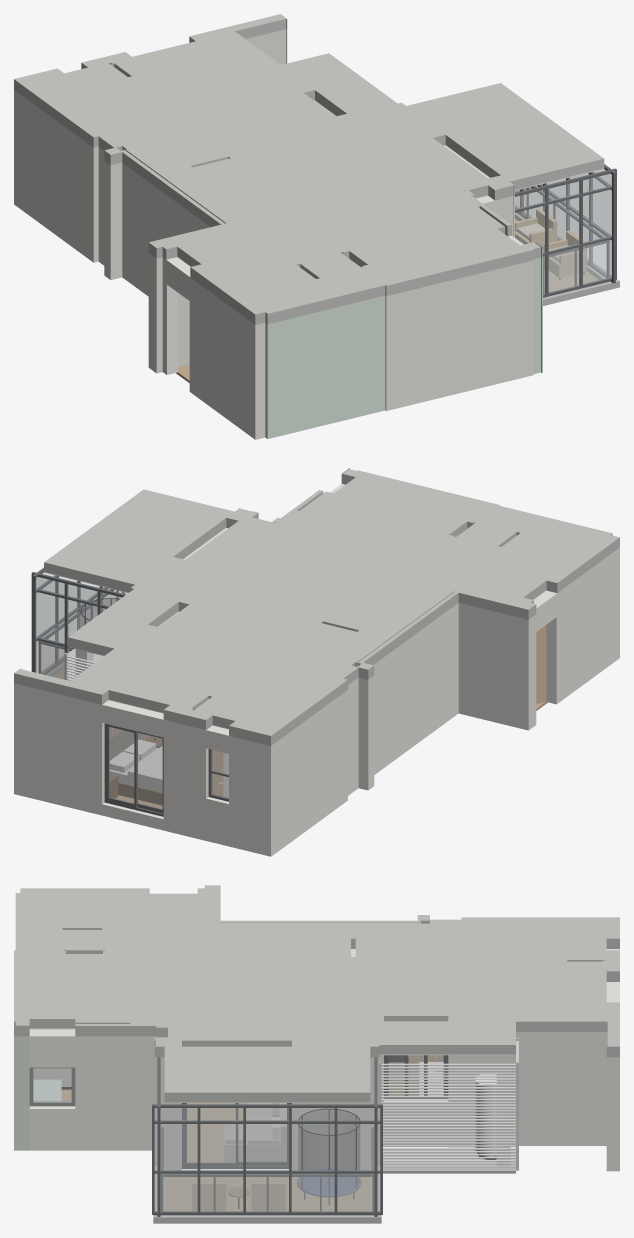
Rendered from apartment.glb.
3 views of the same model, one above another, from view 1: azimuth 30°, elevation 25°; view 2: azimuth 150°, elevation 25°; view 3: azimuth 270°, elevation 25° (orthographic). The views are drawn at different scales.
Visible parts, largest first — view 1: Roof__living__3, Wall__living__0, Wall__kids__12, Roof__bedroom__5, Wall__bedroom__34, Roof__balcony__0, Roof__kids__4, Wall__living__13, F__balcony__enc_s_glass, Roof__kitchen__2, Wall__living__35, Roof__guestbath__7 (+24 smaller); view 2: Roof__living__3, Wall__living__35, Wall__bedroom__34, Roof__bedroom__5, Roof__balcony__0, Wall__service__66, Roof__kids__4, Wall__living__13, Roof__kitchen__2, Wall__ensuite__40, F__balcony__enc_n_glass, Roof__guestbath__7 (+27 smaller); view 3: Roof__living__3, F__balcony__enc_e_glass, Roof__bedroom__5, Roof__balcony__0, Wall__service__66, Wall__living__20, Roof__kids__4, Roof__kitchen__2, F__balcony__rail_e_glass, Roof__service__1, Wall__balcony__48, Roof__guestbath__7 (+42 smaller).
Boxes of the visible parts, <box> form: Roof__living__3: <box>165,126,491,291</box>; Wall__living__0: <box>385,260,533,410</box>; Wall__kids__12: <box>266,296,385,438</box>; Roof__bedroom__5: <box>89,34,299,172</box>; Wall__bedroom__34: <box>14,90,122,279</box>; Roof__balcony__0: <box>407,83,604,189</box>; Roof__kids__4: <box>323,199,519,278</box>; Wall__living__13: <box>190,277,260,439</box>; F__balcony__enc_s_glass: <box>515,174,611,294</box>; Roof__kitchen__2: <box>185,92,368,167</box>; Wall__living__35: <box>122,163,210,373</box>; Roof__guestbath__7: <box>206,250,328,309</box>; Roof__living__3: <box>167,510,547,636</box>; Wall__living__35: <box>373,603,536,774</box>; Wall__bedroom__34: <box>229,675,374,856</box>; Roof__bedroom__5: <box>82,623,383,712</box>; Roof__balcony__0: <box>44,489,234,592</box>; Wall__service__66: <box>14,683,104,815</box>; Roof__kids__4: <box>297,476,485,553</box>; Wall__living__13: <box>557,547,619,703</box>; Roof__kitchen__2: <box>157,582,335,655</box>; Wall__ensuite__40: <box>163,720,208,840</box>; F__balcony__enc_n_glass: <box>36,577,121,679</box>; Roof__guestbath__7: <box>483,522,605,577</box>; Roof__living__3: <box>26,893,350,1046</box>; F__balcony__enc_e_glass: <box>155,1108,379,1211</box>; Roof__bedroom__5: <box>355,925,606,1015</box>; Roof__balcony__0: <box>164,1046,370,1102</box>; Wall__service__66: <box>510,1032,619,1171</box>; Wall__living__20: <box>75,1036,155,1150</box>; Roof__kids__4: <box>26,954,155,1028</box>; Roof__kitchen__2: <box>324,957,450,1021</box>; F__balcony__rail_e_glass: <box>163,1177,371,1210</box>; Roof__service__1: <box>379,1021,515,1054</box>; Wall__balcony__48: <box>292,1057,372,1170</box>; Roof__guestbath__7: <box>26,893,140,929</box>.
Bounding box in the file's own units: 10.96 × 3.1 × 13.23.
